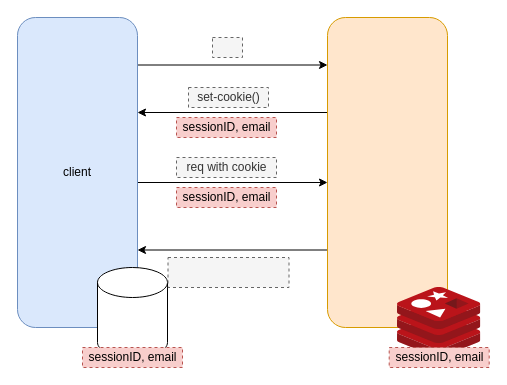
The diagram is 507 pixels wide and 385 high, and some of its shapes have lost their labels. Here are the shapes that lost their labels. From the top down, the box of each, then its label:
(212, 36, 242, 58): req
(326, 16, 448, 328): server
(167, 256, 289, 288): redis cache를 참조하여 response
(96, 266, 168, 358): cookie-storage
